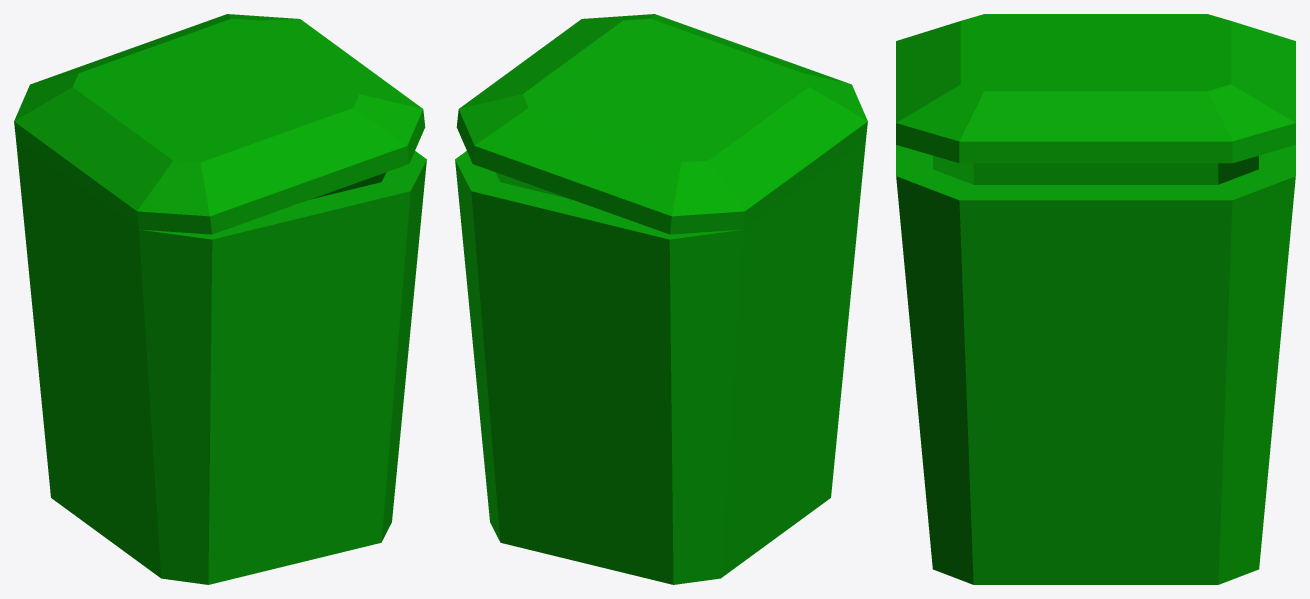
The model's file is TrashCan(Closed).fbx.
The picture shows the model from 3 angles, left to right: view 1: azimuth 30°, elevation 25°; view 2: azimuth 150°, elevation 25°; view 3: azimuth 270°, elevation 25°; orthographic projection. The views are drawn at different scales.
Visible parts, largest first — view 1: Untitled.005; view 2: Untitled.005; view 3: Untitled.005.
Part boxes in pixels (x1,y1,x2,y2): Untitled.005: (14, 14, 426, 584); Untitled.005: (455, 14, 867, 584); Untitled.005: (896, 14, 1295, 584).
Bounding box in the file's own units: 96.76 × 138 × 104.
